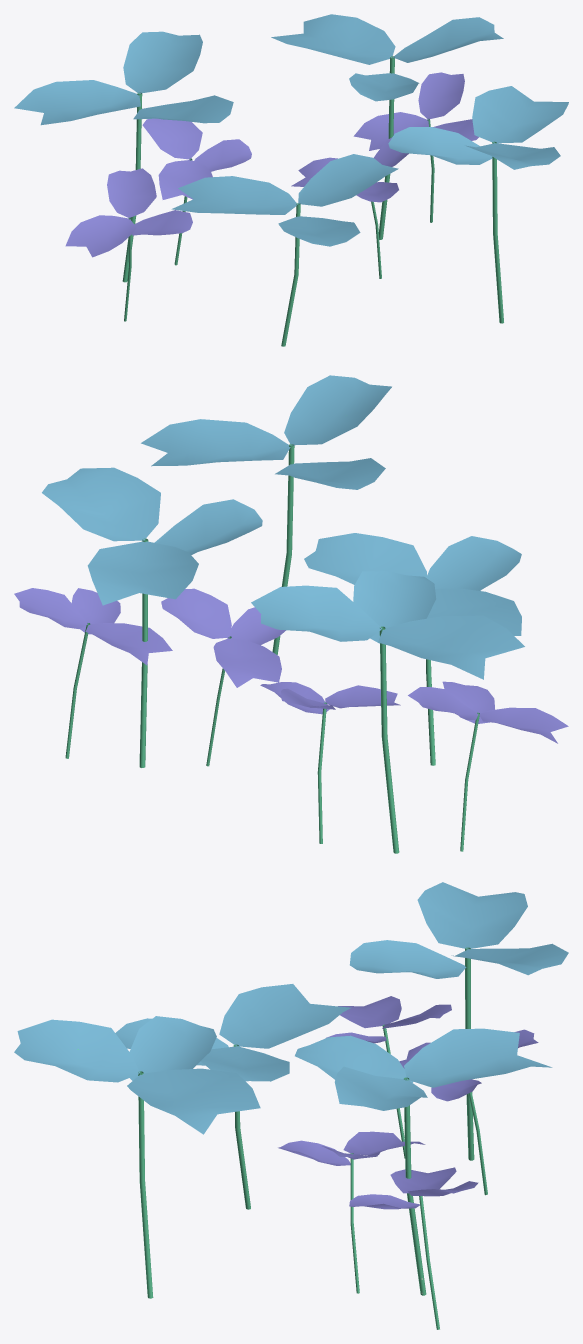
The model's file is Bush4.fbx.
3 views of the same model, one above another, from view 1: azimuth 30°, elevation 25°; view 2: azimuth 150°, elevation 25°; view 3: azimuth 270°, elevation 25° (orthographic). The views are drawn at different scales.
Visible parts, largest first — view 1: Circle.007; view 2: Circle.007; view 3: Circle.007.
Boxes of the visible parts, box(x1,y1,x2,y2) form: Circle.007: box(14, 14, 568, 346); Circle.007: box(14, 375, 568, 853); Circle.007: box(14, 882, 568, 1329).
Bounding box in the file's own units: 1.33 × 0.6611 × 1.27.
